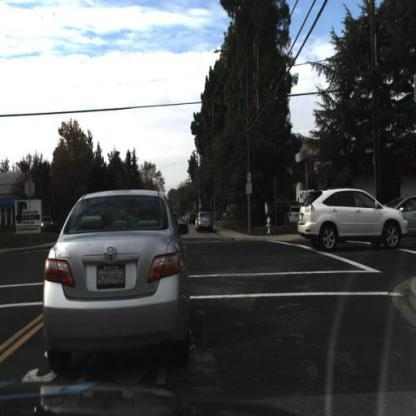car: (42, 181, 195, 361), (290, 185, 412, 259), (404, 174, 416, 248), (192, 205, 219, 237), (282, 200, 308, 232), (38, 210, 57, 240)
